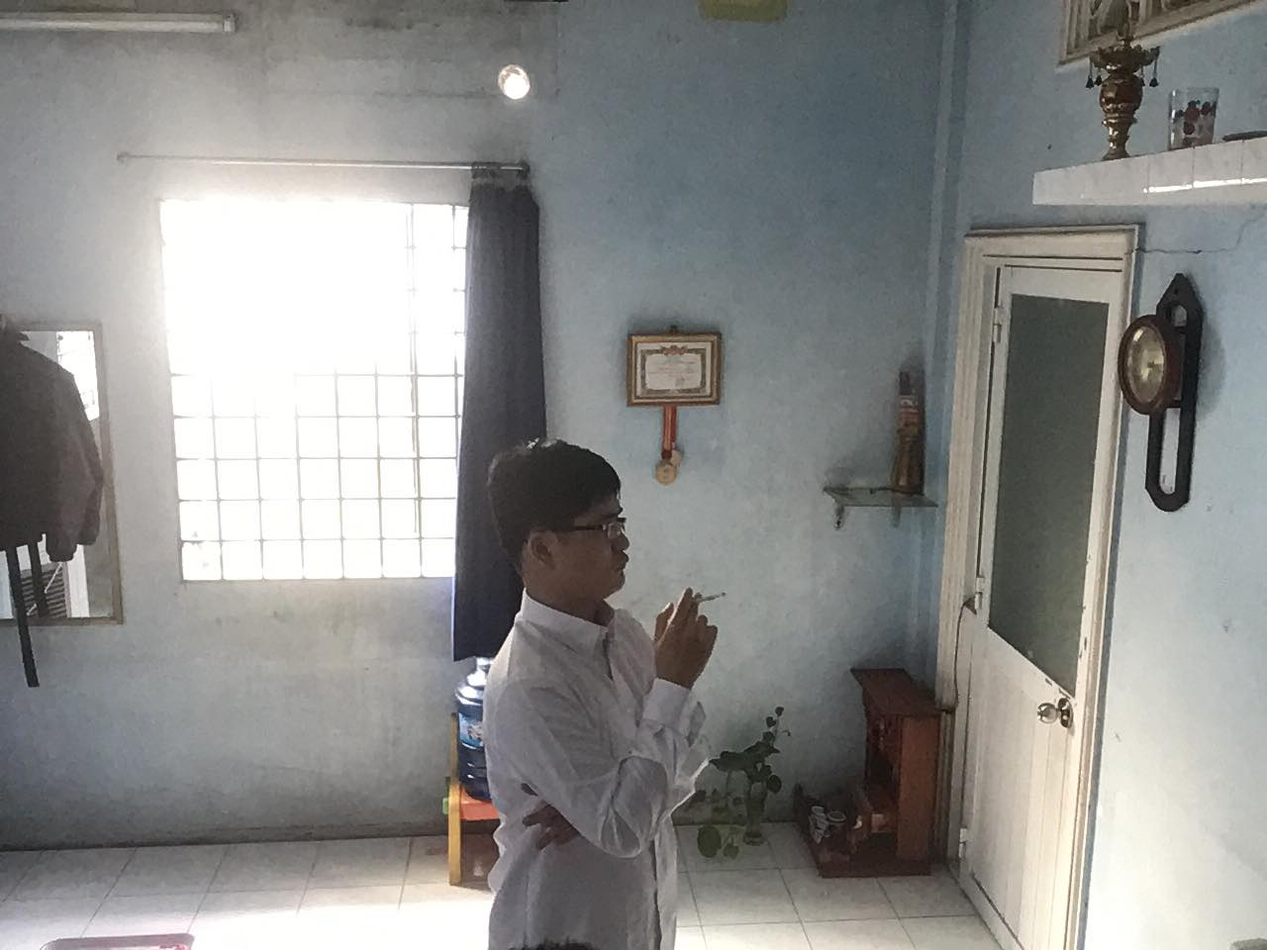cigarette: (694, 586, 729, 607)
person: (458, 425, 750, 950)
